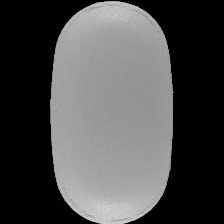49999-102: (0, 0, 224, 224)
